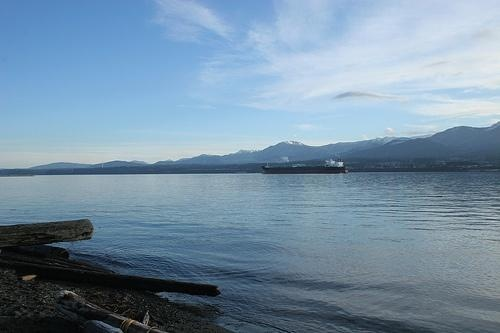boat: (260, 156, 351, 178)
